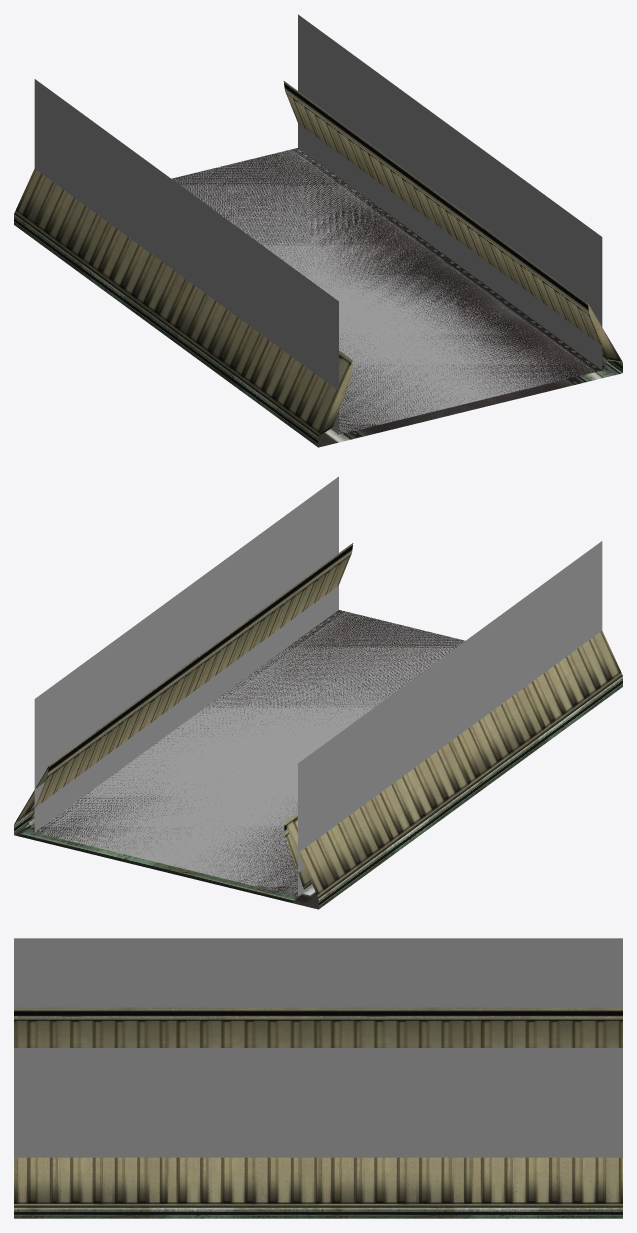
The model's file is Walled_Road_End.fbx.
3 views of the same model, one above another, from view 1: azimuth 30°, elevation 25°; view 2: azimuth 150°, elevation 25°; view 3: azimuth 270°, elevation 25° (orthographic).
Parts seen in each view (by area): view 1: Walled_road_end (×2); view 2: Walled_road_end (×2); view 3: Walled_road_end (×2).
Part boxes in pixels (left/top/right/bottom): Walled_road_end (×2): left=14, top=14, right=622, bottom=447; Walled_road_end (×2): left=14, top=476, right=622, bottom=909; Walled_road_end (×2): left=14, top=938, right=622, bottom=1218.
Size of the model in its own units: 18.5 by 8.19 by 32.
